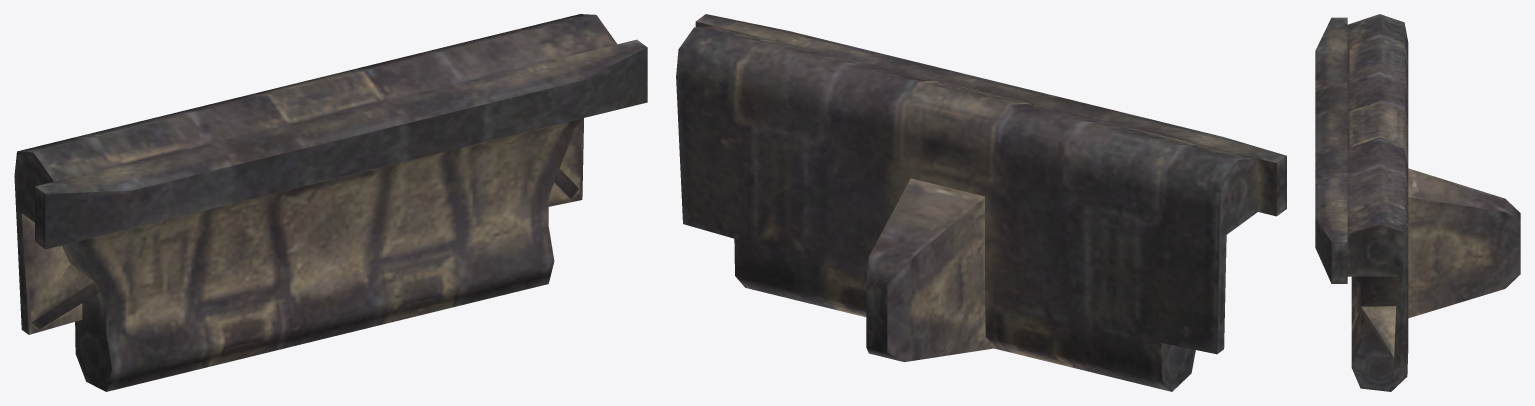
Rendered from VK3001P_track.glb.
3 renders of one model, left to right at view 1: azimuth 30°, elevation 25°; view 2: azimuth 150°, elevation 25°; view 3: azimuth 270°, elevation 25°, orthographic. The views are drawn at different scales.
Parts seen in each view (by area): view 1: set_0_group_0; view 2: set_0_group_0; view 3: set_0_group_0.
Boxes of the visible parts, bbox=[...] form: set_0_group_0: bbox=[14, 14, 647, 391]; set_0_group_0: bbox=[676, 14, 1286, 391]; set_0_group_0: bbox=[1315, 14, 1520, 391].
Size of the model in its own units: 0.5 by 0.1982 by 0.1936.
1 material, 1 textured.
